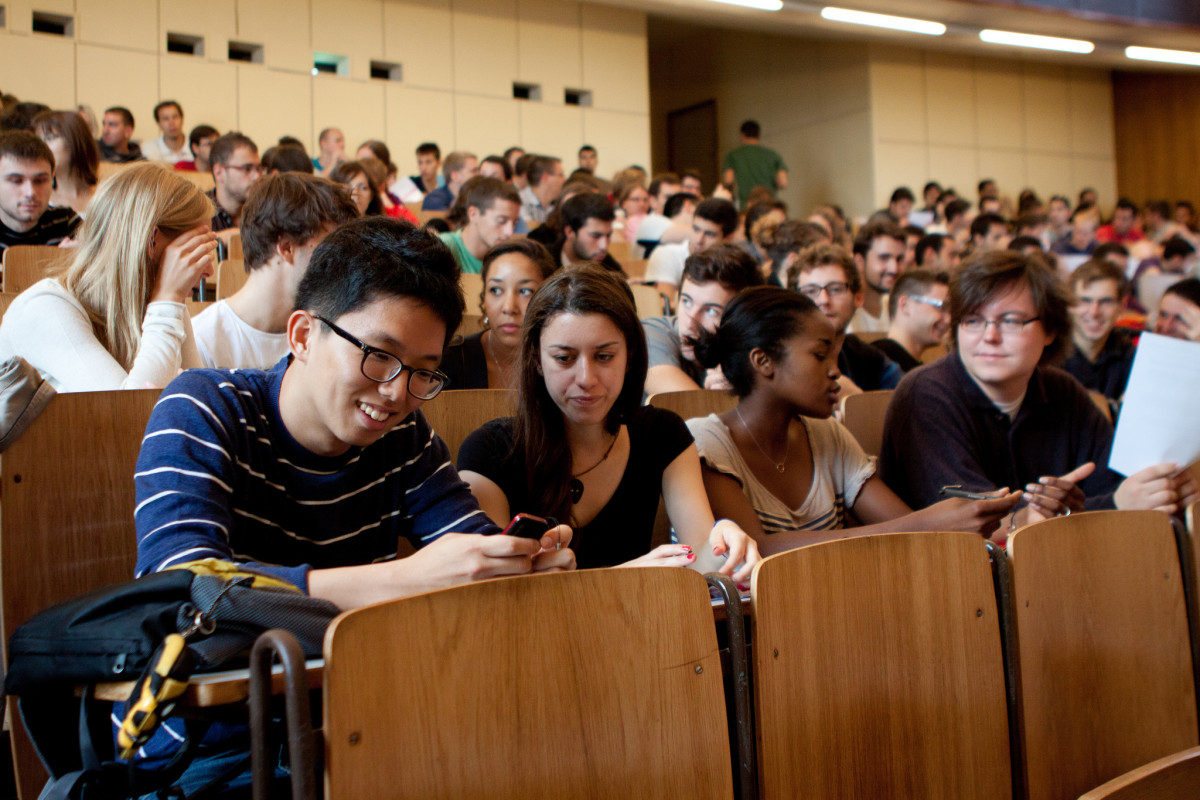cheating: (726, 304, 848, 439), (949, 261, 1059, 399), (211, 139, 263, 193)
phone: (499, 513, 554, 545)
